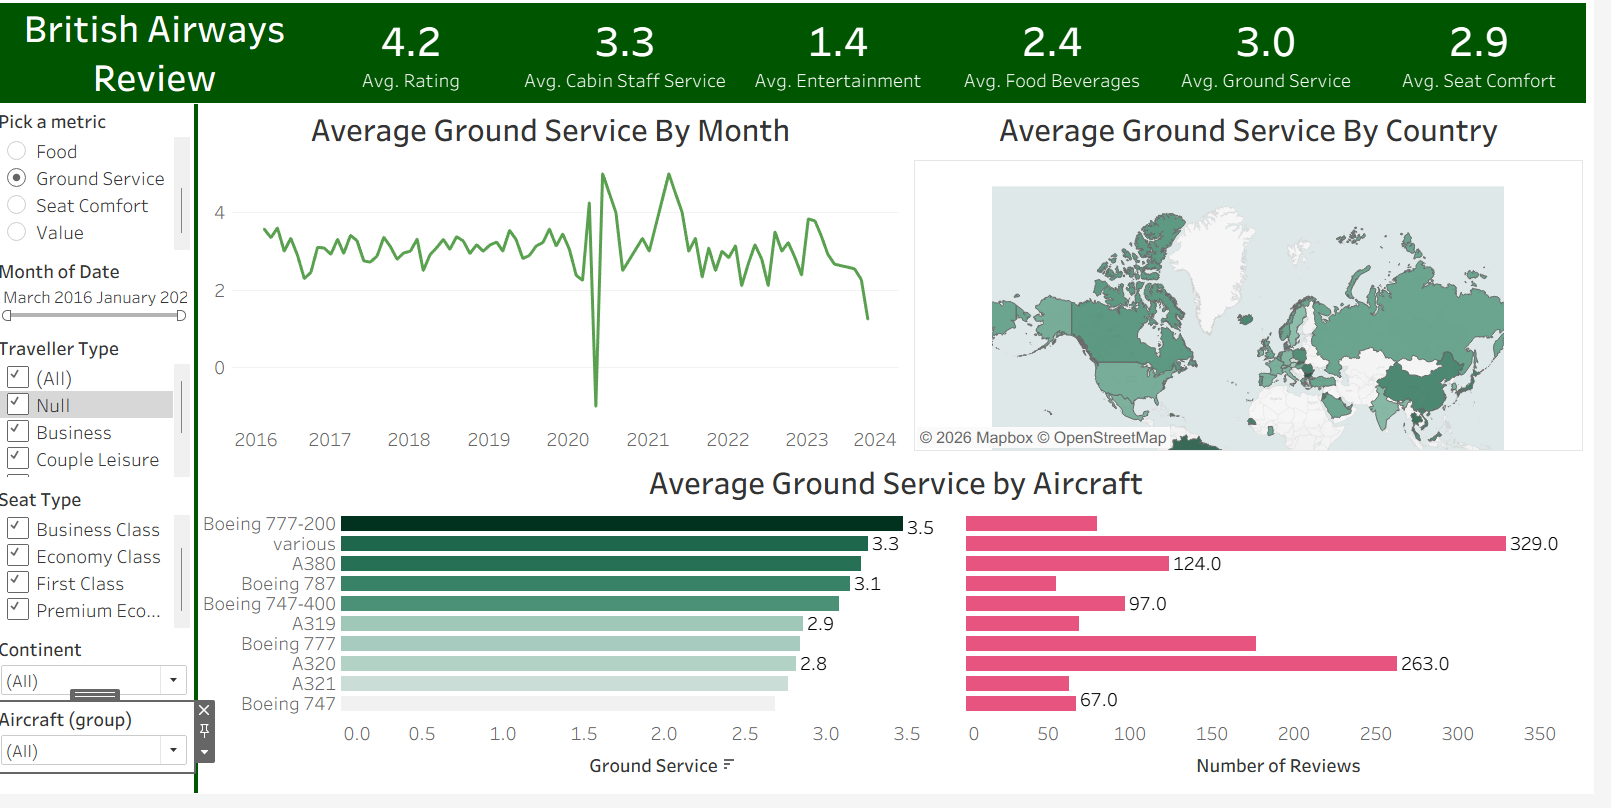

The page's visual inventory and layout, read from the dashboard file:
{"tool":"tableau","page":{"name":"Dashboard 1","canvas":[1600,800],"ordinal":0},"visuals":[{"type":"text","box":[2,9,317,100]},{"type":"worksheet","title":"Summery","mark":"Automatic","box":[310,9,1282,100]},{"type":"parameter","param":"[Parameters].[Parameter 1]","box":[0,110,200,150.3]},{"type":"blank","box":[200,110,4,689]},{"type":"worksheet","title":"month","mark":"Automatic","rows":["Calculation_0569575060381697"],"cols":["date"],"box":[208,110,697,347]},{"type":"worksheet","title":"Map","mark":"Automatic","box":[920,110,669,347]},{"type":"filter","title":"Map","param":"[federated.1x6nbi40r7yk6j19dko150ngz5pm].[tmn:date:qk]","box":[0,260.3,200,77]},{"type":"filter","title":"Map","param":"[federated.1x6nbi40r7yk6j19dko150ngz5pm].[none:traveller_type:nk]","box":[0,337.3,200,150.3]},{"type":"worksheet","title":"Sheet 4","mark":"Automatic","cols":["Calculation_0569575060381697","ba_reviews.csv_FCABA3F2092C4F9382FF86E48EAF7410"],"box":[207,463,1390,337]},{"type":"filter","title":"Map","param":"[federated.1x6nbi40r7yk6j19dko150ngz5pm].[none:seat_type:nk]","box":[0,487.7,200,150.3]},{"type":"filter","title":"Map","param":"[federated.1x6nbi40r7yk6j19dko150ngz5pm].[none:Continent:nk]","box":[0,638,200,70]},{"type":"filter","title":"Map","param":"[federated.1x6nbi40r7yk6j19dko150ngz5pm].[Aircraft (group)]","box":[0,708,200,70]}]}

Visuals, with their boxes in screenshot pixels (x1, y1, x2, y2), scaled from the page's 1600x800 canvas onto the 1611x808 screenshot:
text: x1=2, y1=9, x2=321, y2=110
"Summery" worksheet: x1=312, y1=9, x2=1603, y2=110
parameter: x1=0, y1=111, x2=201, y2=263
blank: x1=201, y1=111, x2=205, y2=807
"month" worksheet: x1=209, y1=111, x2=911, y2=462
"Map" worksheet: x1=926, y1=111, x2=1600, y2=462
"Map" filter: x1=0, y1=263, x2=201, y2=341
"Map" filter: x1=0, y1=341, x2=201, y2=492
"Sheet 4" worksheet: x1=208, y1=468, x2=1608, y2=807
"Map" filter: x1=0, y1=493, x2=201, y2=644
"Map" filter: x1=0, y1=644, x2=201, y2=715
"Map" filter: x1=0, y1=715, x2=201, y2=786
